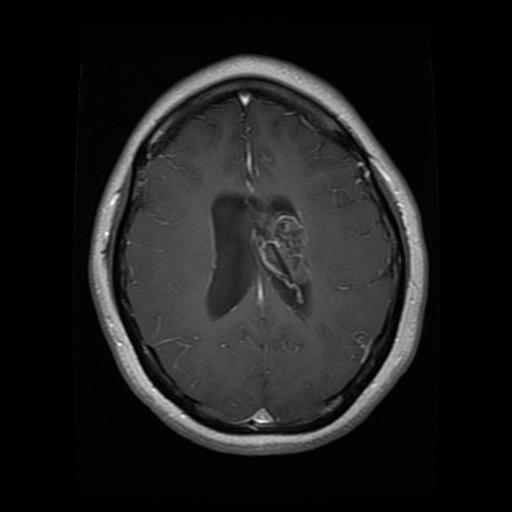Gliomia_tumour: (242, 207, 311, 291)
